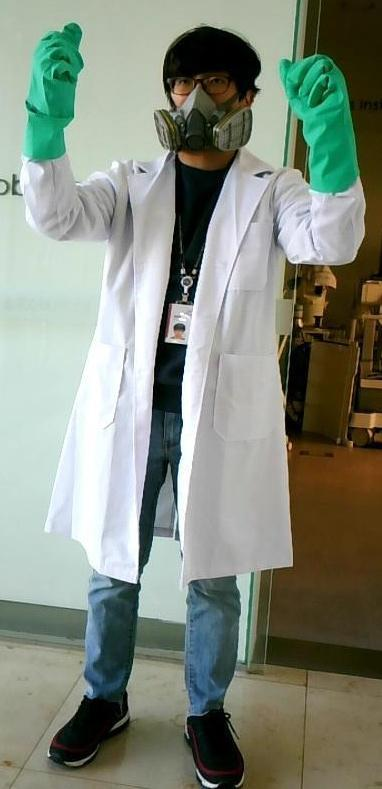lab_coat: (61, 160, 297, 538)
